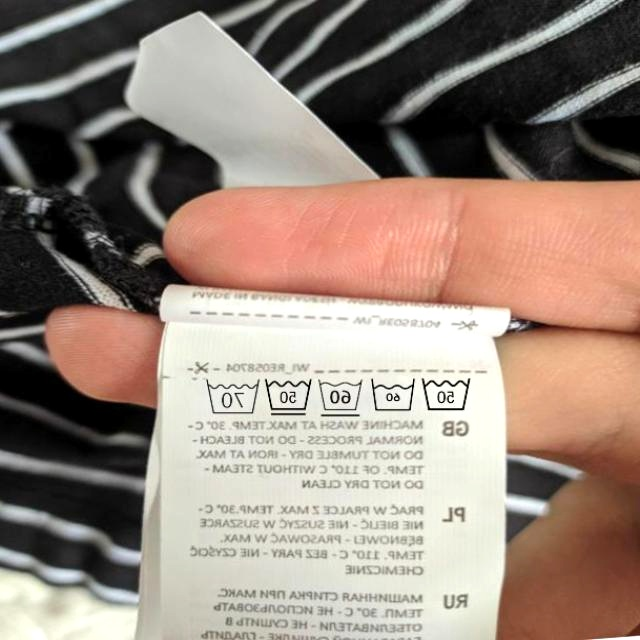50C: (419, 371, 471, 415), (262, 376, 311, 417)
60C: (315, 377, 364, 417), (367, 377, 416, 413)
70C: (202, 377, 259, 419)
